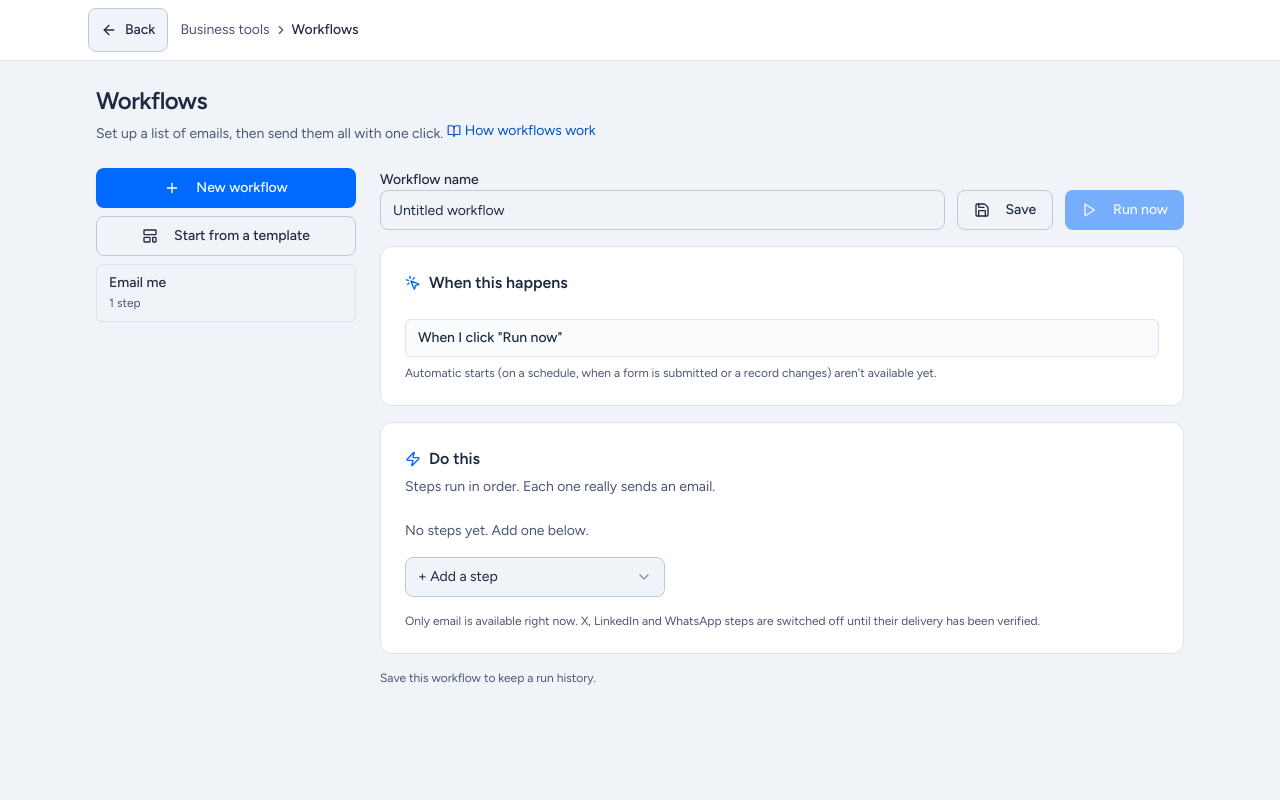
Run: confirm, details and preview (Phase 15) › "Run now" sends nothing until the user confirms "This will send 1 email to 1 recipient."
Step 1. Click the button "Email me 1 step" → (138, 282), box top-left (96, 264), bottom-right (356, 322)
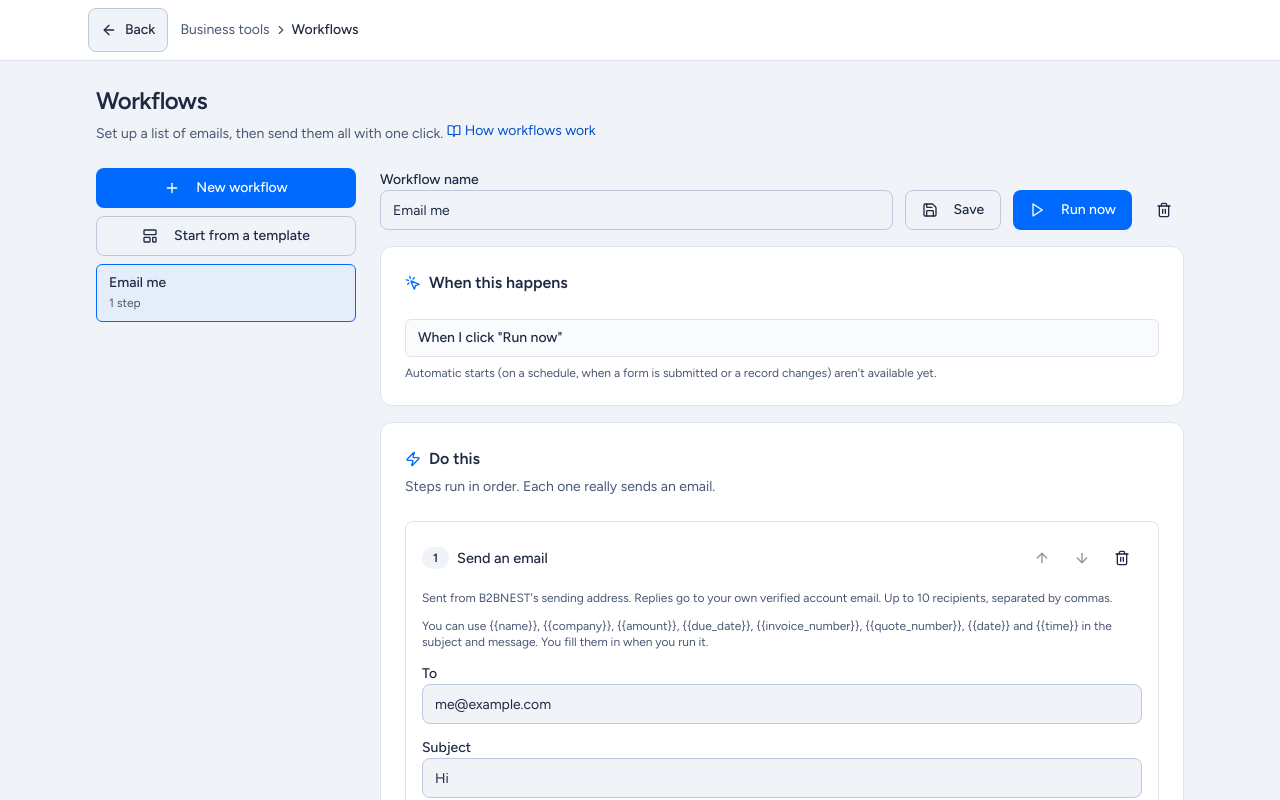
Now the button "Run now" is enabled
Step 2. Click the button "Run now" → (1073, 210), box top-left (1013, 190), bottom-right (1132, 230)
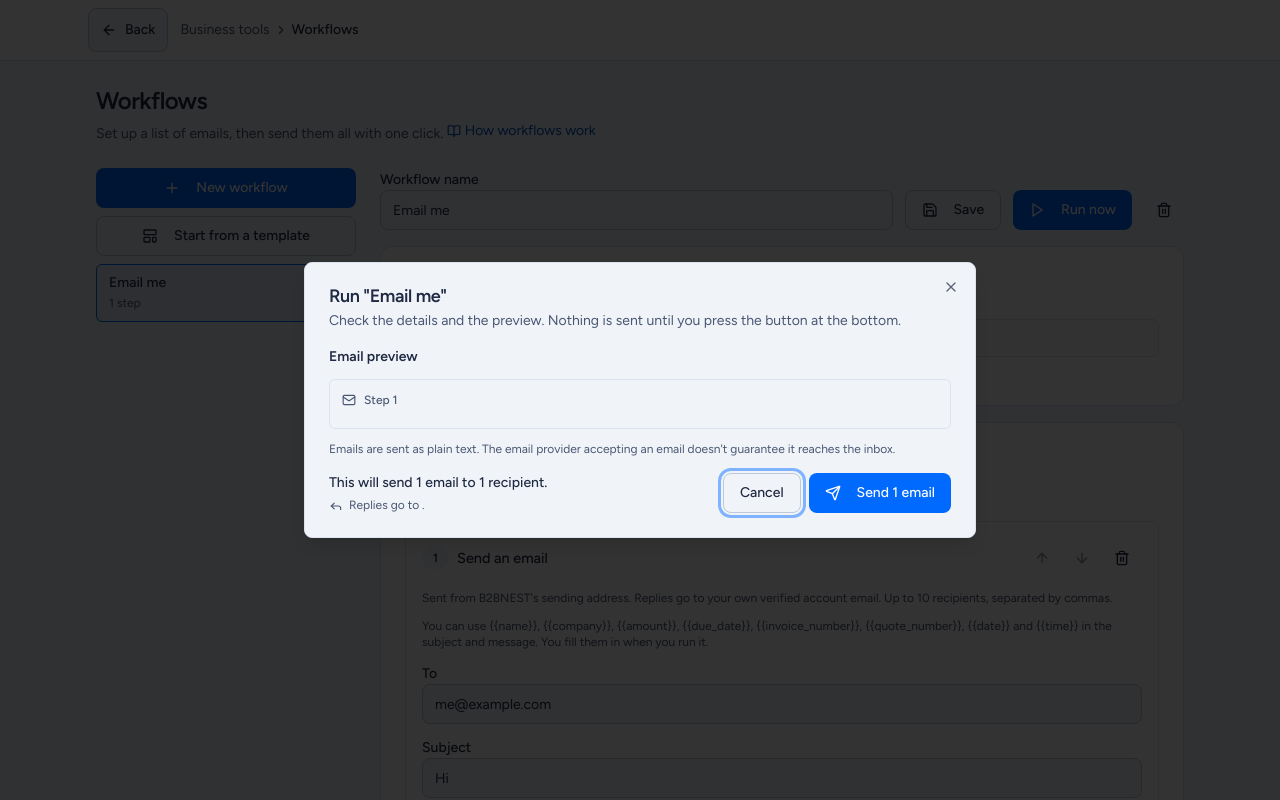
Now the text with test id "run-summary" reads "This will send 1 email to 1 recipient.", box top-left (329, 474), bottom-right (547, 491)
Step 3. Click the button "Cancel" → (762, 493), box top-left (723, 473), bottom-right (800, 513)
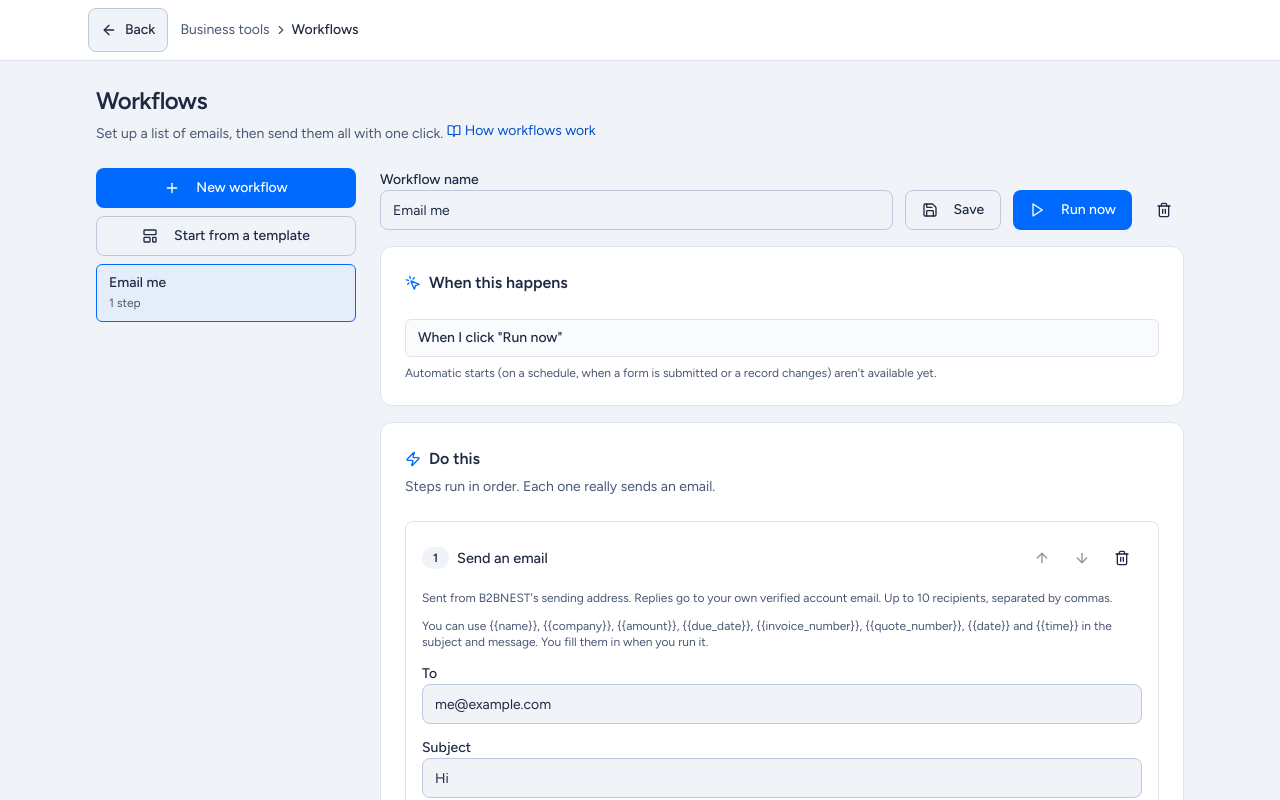
Now the dialog is gone
